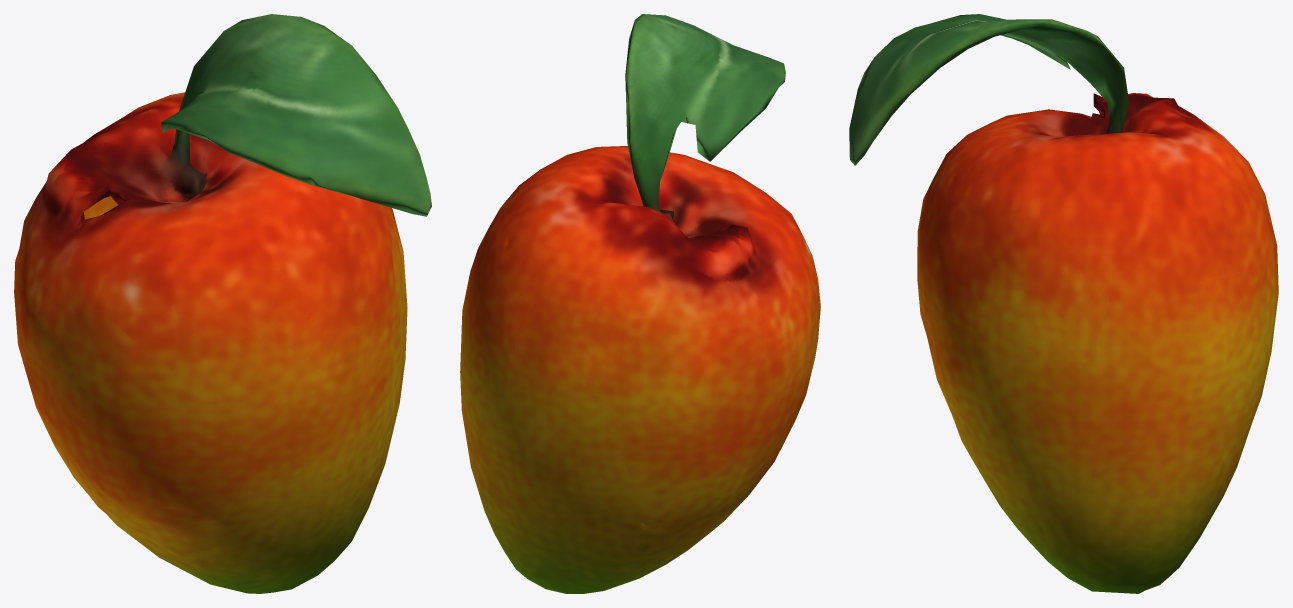
Rendered from mango.glb.
The picture shows the model from 3 angles, left to right: view 1: azimuth 30°, elevation 25°; view 2: azimuth 150°, elevation 25°; view 3: azimuth 270°, elevation 25°; orthographic projection. The views are drawn at different scales.
Visible parts, largest first — view 1: part_0_body.013_13.002; view 2: part_0_body.013_13.002; view 3: part_0_body.013_13.002.
Boxes of the visible parts, x1,y1,x2,y2 form: part_0_body.013_13.002: (14, 14, 431, 593); part_0_body.013_13.002: (460, 14, 820, 593); part_0_body.013_13.002: (849, 14, 1278, 593).
Size of the model in its own units: 0.1079 by 0.1772 by 0.1232.
2 materials, 2 textured.
